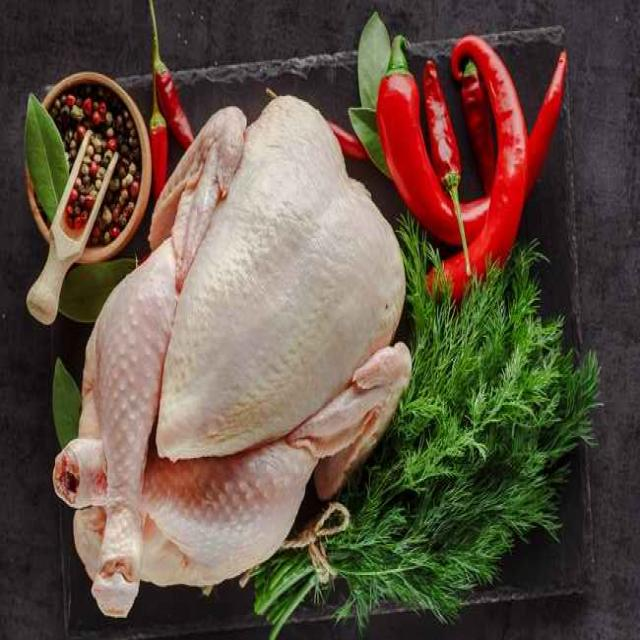chicken: (59, 94, 407, 611)
